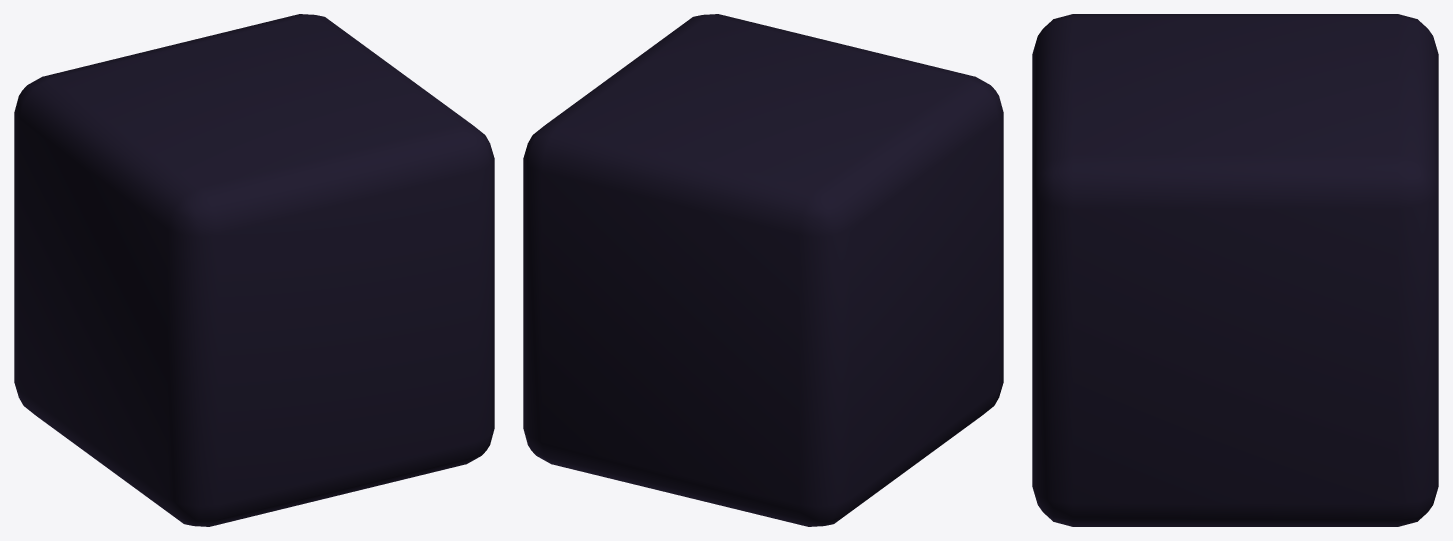
Rendered from TableBevel.obj.
3 renders of one model, left to right at view 1: azimuth 30°, elevation 25°; view 2: azimuth 150°, elevation 25°; view 3: azimuth 270°, elevation 25°, orthographic. The views are drawn at different scales.
Parts seen in each view (by area): view 1: TableBevel; view 2: TableBevel; view 3: TableBevel.
Boxes of the visible parts, x1,y1,x2,y2 form: TableBevel: (14, 14, 494, 526); TableBevel: (523, 14, 1003, 526); TableBevel: (1032, 14, 1438, 526).
Bounding box in the file's own units: 1 × 1 × 1.
